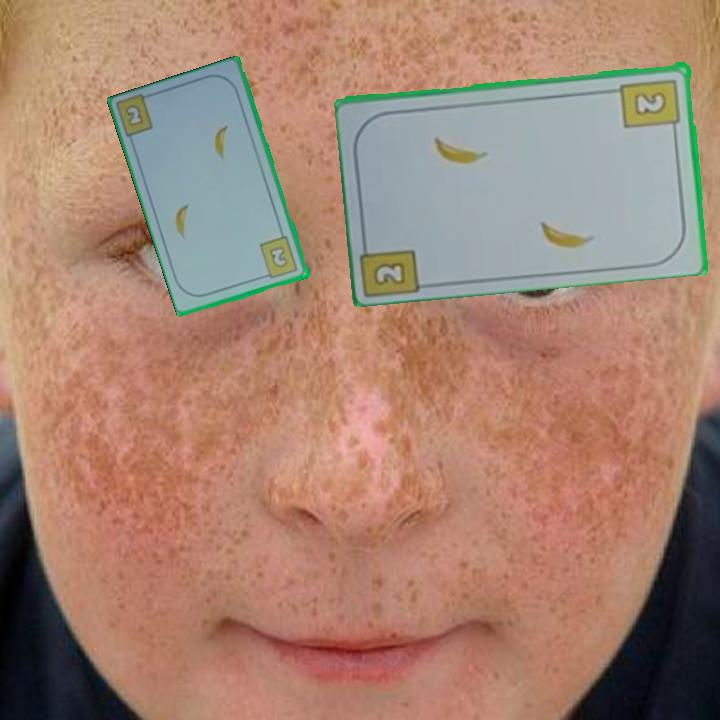2b: (618, 75, 683, 136), (256, 233, 301, 282), (370, 258, 409, 288), (122, 101, 147, 130)
